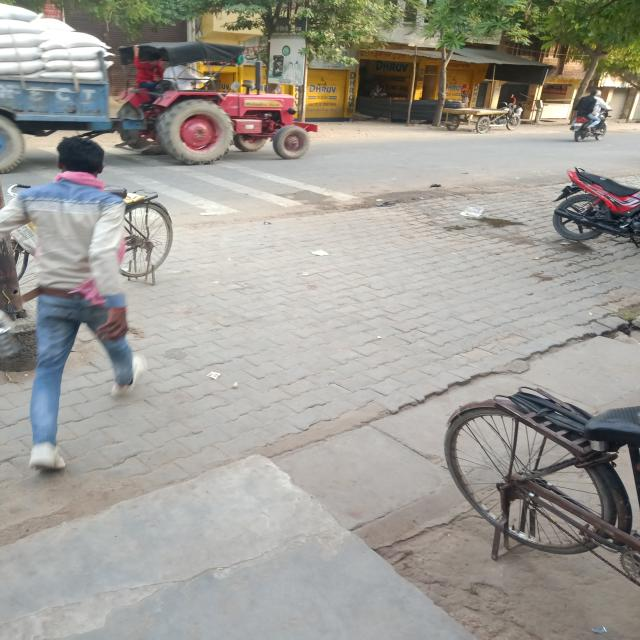Bike: (554, 167, 640, 253), (565, 107, 622, 141)
tractor: (0, 2, 314, 155)
